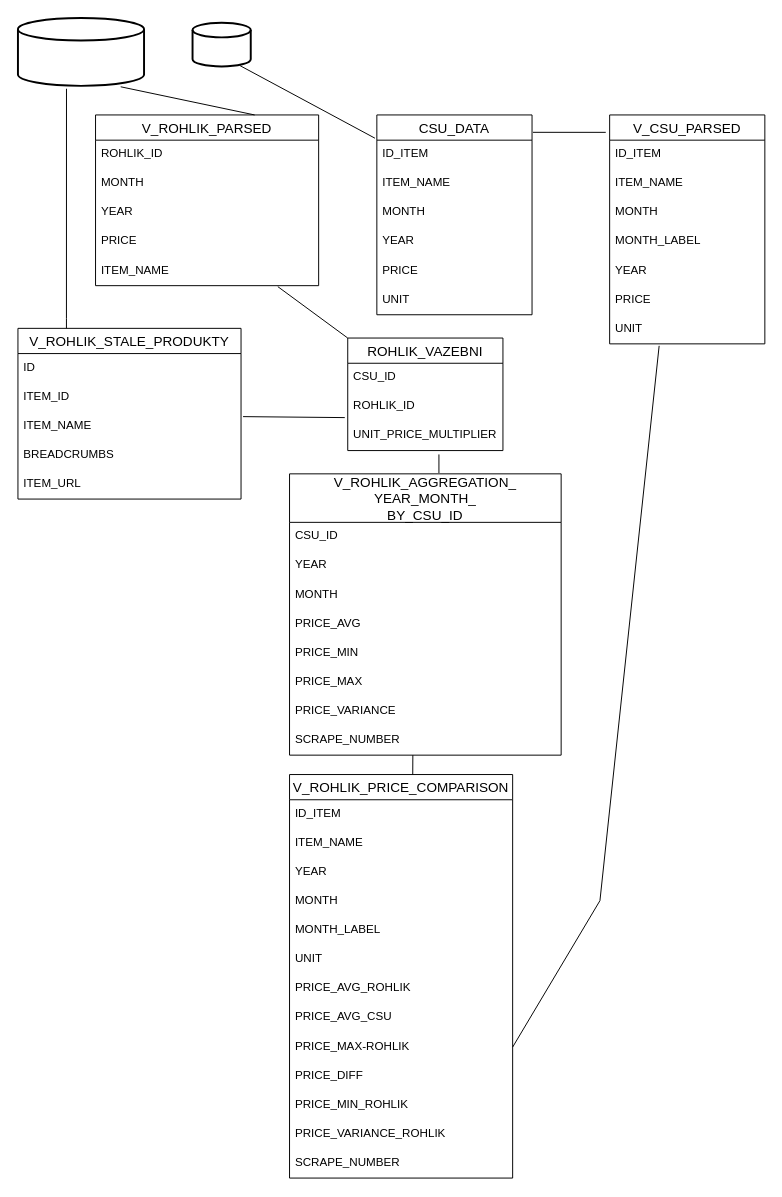
This 782x1197 diagram has some shape labels left out. The shapes that lost their labels are listed below. From the top down, each one's centre as x and y in pixels, then its label:
pixel 80 51: ROHLIK_RAW
pixel 221 44: CSU
